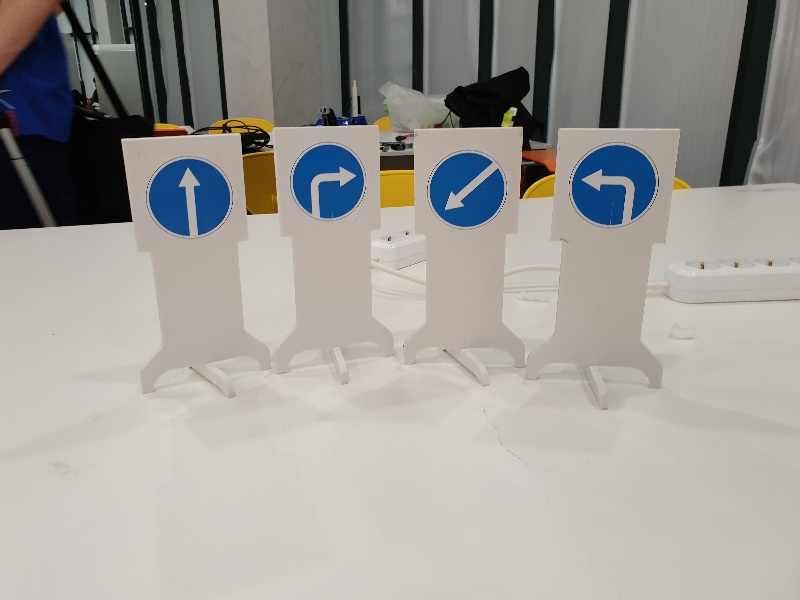Left: (564, 137, 663, 230)
Right: (282, 136, 375, 222)
forw: (141, 152, 239, 241)
prep: (422, 147, 511, 229)
